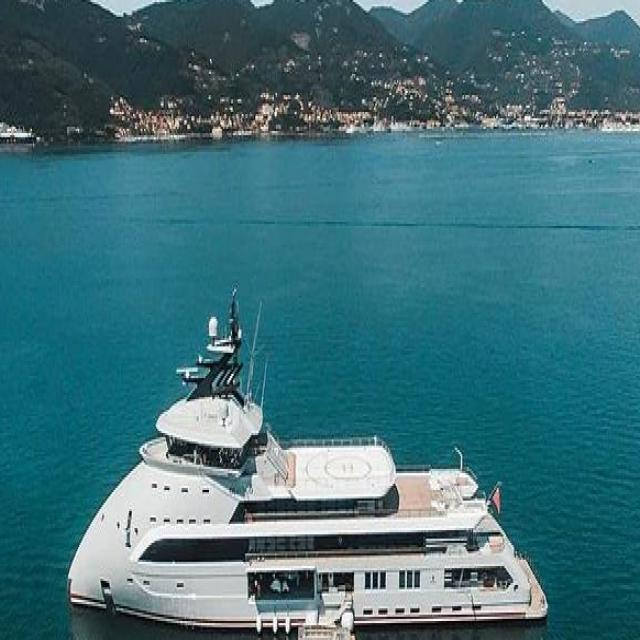passenger ship: (68, 266, 548, 622)
